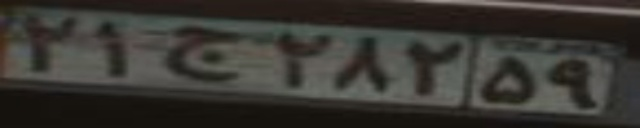1: (94, 20, 130, 75)
2: (19, 14, 80, 72), (275, 32, 332, 87), (407, 39, 462, 95)
5: (480, 55, 535, 103)
8: (335, 36, 392, 91)
9: (546, 58, 596, 109)
jim: (163, 26, 244, 82)
